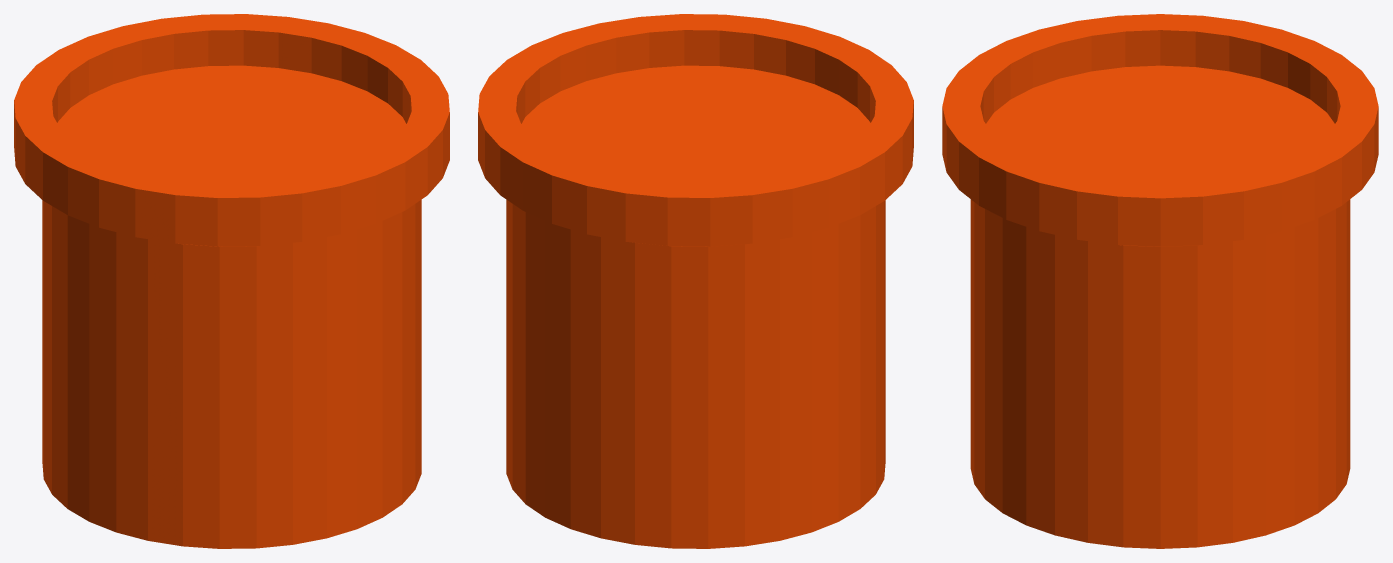
The model's file is Maceta.dae.
The picture shows the model from 3 angles, left to right: view 1: azimuth 30°, elevation 25°; view 2: azimuth 150°, elevation 25°; view 3: azimuth 270°, elevation 25°; orthographic projection.
Parts seen in each view (by area): view 1: Cylinder; view 2: Cylinder; view 3: Cylinder.
Part boxes in pixels (x1=…): Cylinder: x1=14, y1=14, x2=449, y2=548; Cylinder: x1=478, y1=14, x2=913, y2=548; Cylinder: x1=942, y1=14, x2=1378, y2=548.
Size of the model in its own units: 6.04 by 6.04 by 5.54.
1 material, 1 textured.
